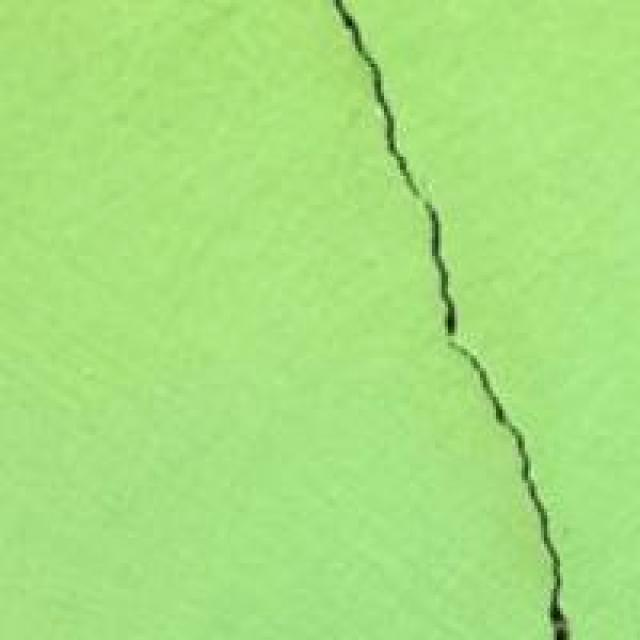SurfaceCrack: (310, 2, 572, 640)
